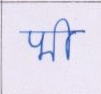i_matra: (56, 17, 75, 61)
